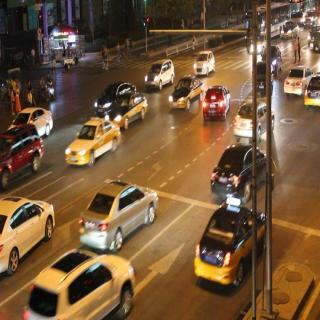BigCar: (253, 3, 282, 38)
Car: (21, 252, 139, 320), (195, 196, 268, 288), (80, 180, 161, 245), (207, 147, 268, 195), (67, 117, 120, 168), (1, 129, 43, 176), (234, 96, 277, 140), (169, 73, 201, 111), (95, 80, 133, 112), (13, 105, 53, 134), (114, 92, 151, 123), (142, 60, 173, 91), (202, 84, 230, 118), (284, 65, 307, 97), (264, 43, 284, 74), (305, 71, 320, 108), (195, 49, 215, 75), (282, 19, 301, 39), (304, 9, 316, 28)
